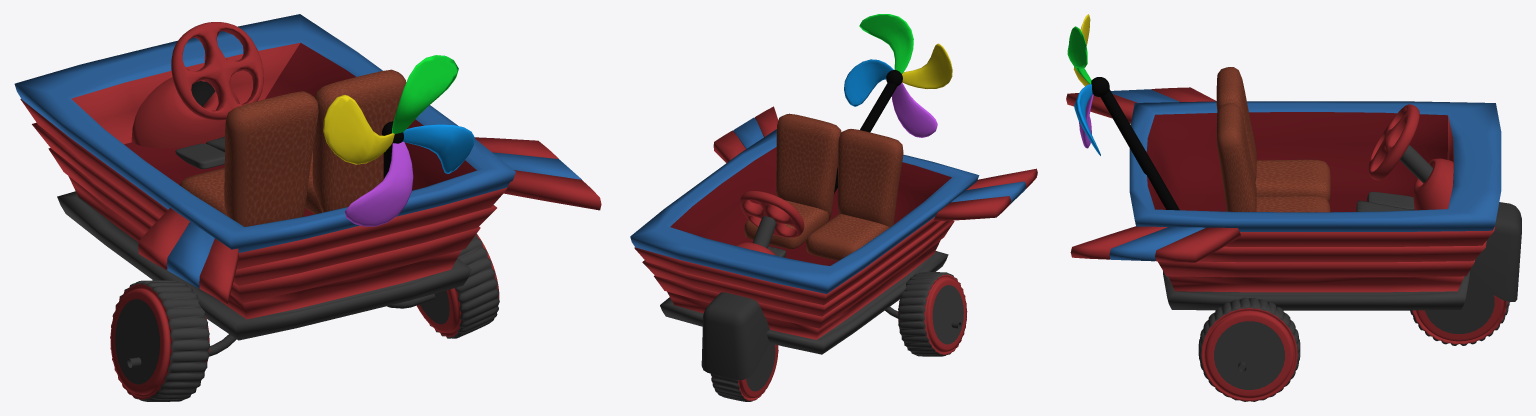
Rendered from carroDecimated.fbx.
The picture shows the model from 3 angles, left to right: view 1: azimuth 30°, elevation 25°; view 2: azimuth 150°, elevation 25°; view 3: azimuth 270°, elevation 25°; orthographic projection. The views are drawn at different scales.
Visible parts, largest first — view 1: Cube.003, Cube.065, Cylinder.003, Cube.063, Plane.009, Cylinder.006, Plane.008, Plane.005, Plane.007, Plane.006, Cube.067, Cylinder.008; view 2: Cube.003, Cube.065, Cylinder.003, Cube.059, Cube.063, Plane.009, Cylinder.002, Plane.007, Plane.006, Plane.005, Plane.008, Cylinder.006 (+1 smaller); view 3: Cube.003, Cube.065, Cylinder.003, Cube.063, Cylinder.002, Cube.059, Cylinder.006, Plane.009, Cylinder.007, Plane.007, Plane.006, Cube.067 (+1 smaller).
Boxes of the visible parts, x1,y1,x2,y2 form: Cube.003: (14,14,515,340); Cube.065: (179,69,406,226); Cylinder.003: (110,233,499,401); Cube.063: (138,137,601,303); Plane.009: (171,22,263,120); Cylinder.006: (131,77,239,148); Plane.008: (323,95,394,164); Plane.005: (344,141,413,226); Plane.007: (392,55,458,133); Plane.006: (403,124,474,173); Cube.067: (175,143,224,169); Cylinder.008: (127,294,435,367); Cube.003: (630,129,979,354); Cube.065: (744,113,903,260); Cylinder.003: (898,272,967,356); Cube.059: (701,292,769,379); Cube.063: (713,106,1037,221); Plane.009: (740,191,804,237); Cylinder.002: (710,343,778,401); Plane.007: (859,14,913,73); Plane.006: (844,59,893,106); Plane.005: (891,82,937,137); Plane.008: (902,43,952,89); Cylinder.006: (736,216,776,255); Cube.003: (1129,101,1501,310); Cube.065: (1216,67,1330,212); Cylinder.003: (1198,297,1300,401); Cube.063: (1066,87,1240,262); Cylinder.002: (1410,281,1509,345); Cube.059: (1469,202,1521,301); Cylinder.006: (1400,145,1453,210); Plane.009: (1368,104,1419,180); Cylinder.007: (1100,89,1179,210); Plane.007: (1067,26,1091,83); Plane.006: (1074,84,1100,155); Cube.067: (1367,191,1414,210).
Bounding box in the file's own units: 388 × 349 × 453.
